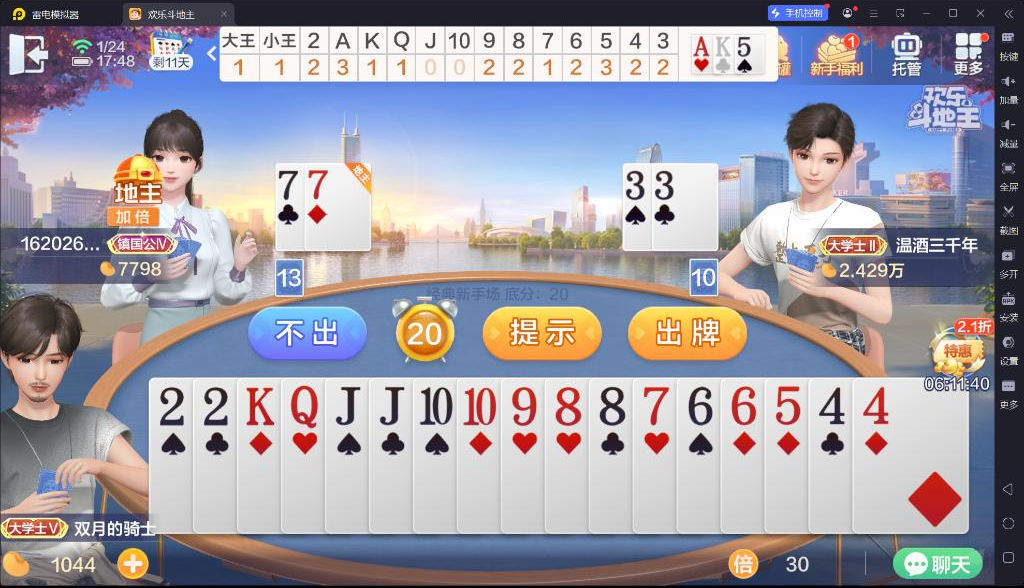A: (692, 35, 711, 57)
J: (330, 383, 364, 427), (374, 383, 408, 426)
K: (243, 381, 275, 427), (714, 36, 732, 58)
Q: (285, 382, 320, 429)
eight: (552, 384, 585, 428), (596, 384, 627, 428)
five: (772, 384, 803, 427), (737, 35, 752, 57)
four: (816, 384, 848, 427), (861, 385, 892, 426)
nine: (508, 384, 541, 428)
seven: (638, 383, 671, 427), (276, 165, 300, 200), (307, 165, 329, 200)
six: (727, 384, 759, 427), (684, 384, 714, 427)
ten: (460, 384, 497, 428), (417, 384, 454, 427)
three: (653, 168, 675, 202), (623, 169, 645, 201)
two: (200, 381, 232, 427), (156, 382, 188, 428)
